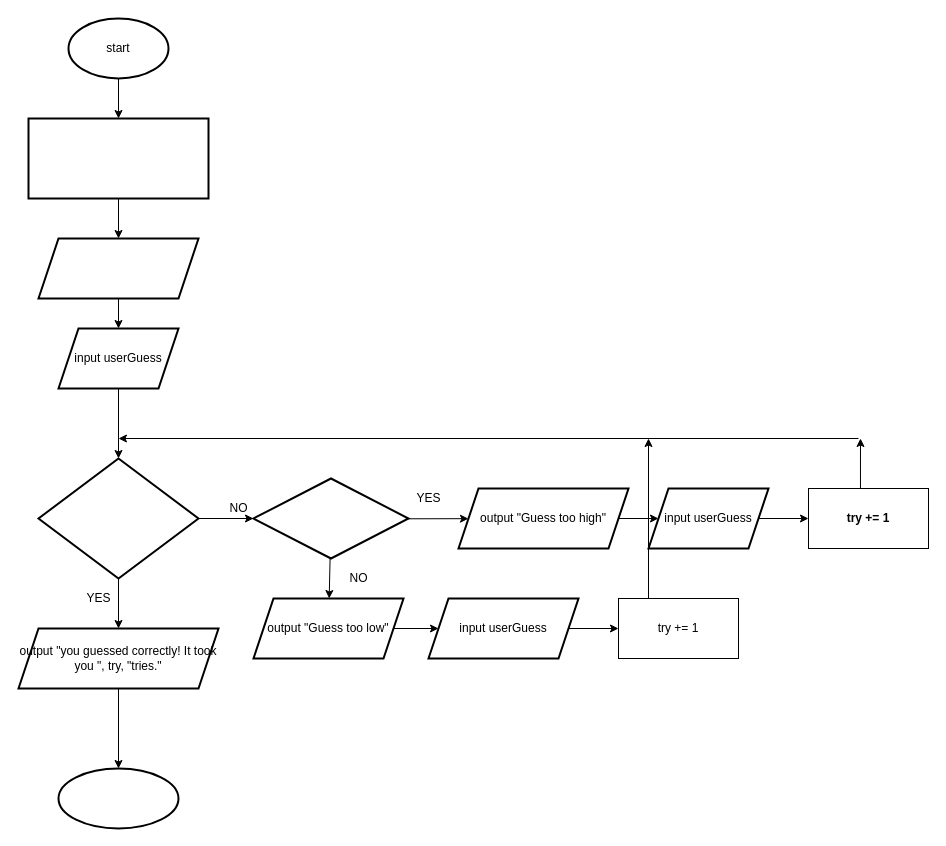
Some shapes in this 946 by 846 pixel diagram are drawn without their labels. The centre of each missing label's shape, as x and y in pixels:
Declarations num guess = random(100) num userGuess num try= 0: (118,158)
guess == userGuess: (118,518)
guess > userGuess: (330,518)
output "enter a guess": (118,268)
stop: (118,798)
